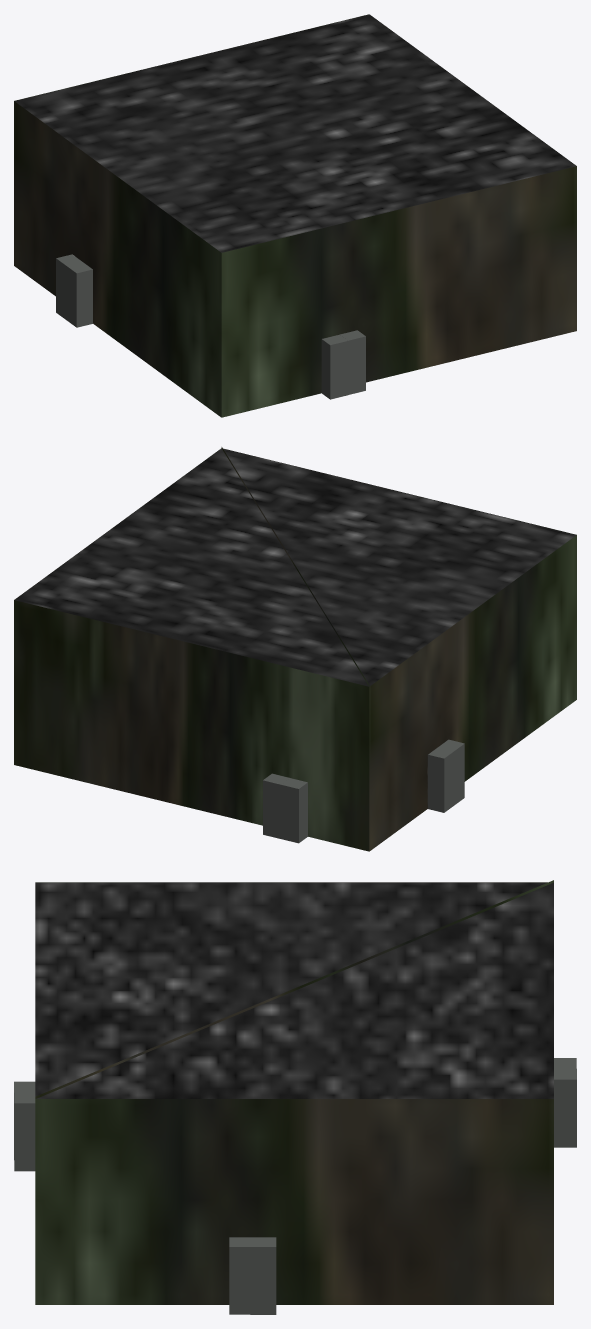
File: Fase3V1.fbx
3 renders of one model, top to bottom at view 1: azimuth 30°, elevation 25°; view 2: azimuth 150°, elevation 25°; view 3: azimuth 270°, elevation 25°, orthographic. The views are drawn at different scales.
Visible parts, largest first — view 1: Plane.007, Plane.003, Plane.004, Cube.004, Cube.001, Cube.002, Cube; view 2: Plane.007, Plane.005, Plane.004, Cube, Cube.006, Cube.005, Cube.001; view 3: Plane.007, Plane.006, Cube.007, Cube.005, Cube.002, Cube.008, Plane.
Part boxes in pixels (<box>): Plane.007: <box>14,14,576,252</box>; Plane.003: <box>221,166,576,417</box>; Plane.004: <box>14,101,221,417</box>; Cube.004: <box>321,334,348,399</box>; Cube.001: <box>66,262,92,327</box>; Cube.002: <box>340,330,365,394</box>; Cube: <box>56,254,81,319</box>; Plane.007: <box>14,448,576,686</box>; Plane.005: <box>14,600,369,851</box>; Plane.004: <box>369,535,576,851</box>; Cube: <box>428,747,454,812</box>; Cube.006: <box>281,778,307,843</box>; Cube.005: <box>263,773,289,838</box>; Cube.001: <box>438,739,464,804</box>; Plane.007: <box>35,882,553,1098</box>; Plane.006: <box>35,1099,553,1304</box>; Cube.007: <box>250,1237,276,1314</box>; Cube.005: <box>554,1068,576,1147</box>; Cube.002: <box>14,1092,35,1171</box>; Cube.008: <box>229,1237,250,1314</box>; Plane: <box>35,880,553,1098</box>.
Bounding box in the file's own units: 3646 × 1510 × 3670.
Materials: 6 (2 with a texture image).
